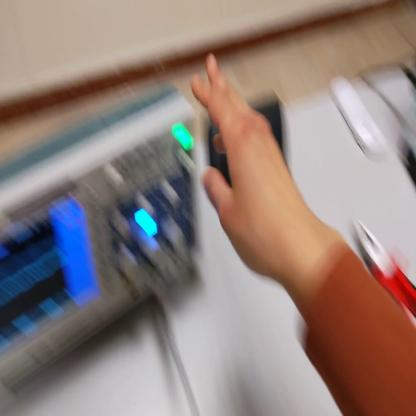hand: (195, 51, 295, 281)
oscilloscope: (2, 66, 200, 399)
pliers: (353, 219, 415, 327)
welder station: (401, 93, 416, 194)
